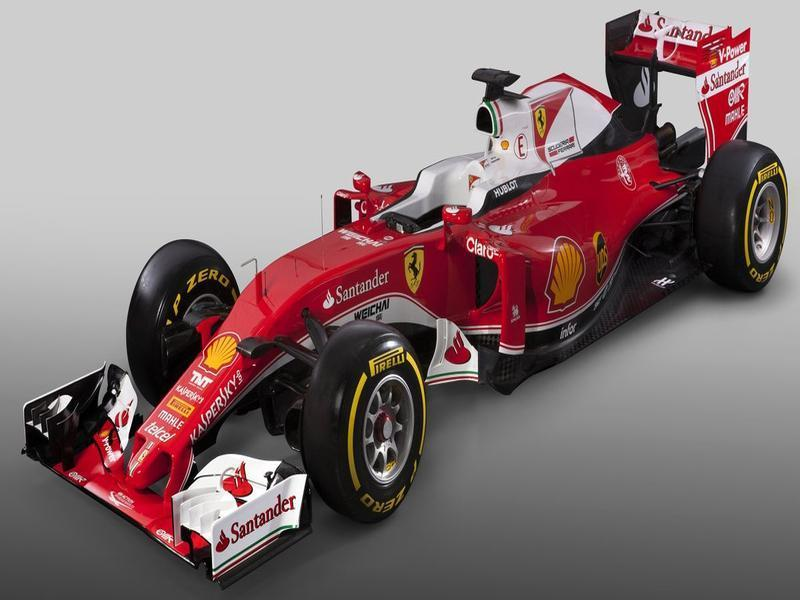f1: (20, 9, 786, 543)
